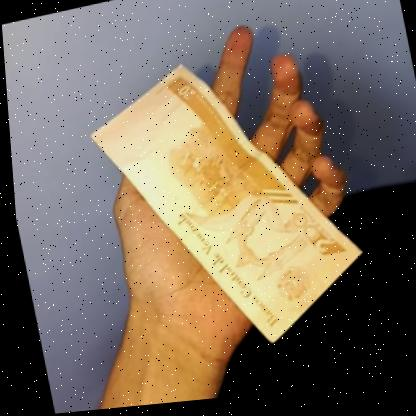twenty-back-vef: (74, 35, 372, 378)
